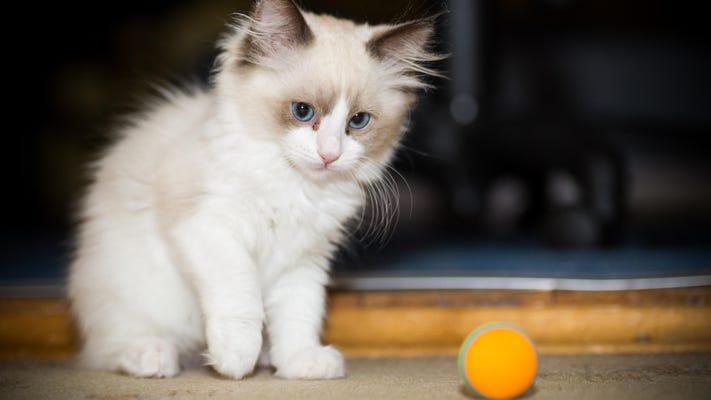cat: (68, 1, 414, 379)
